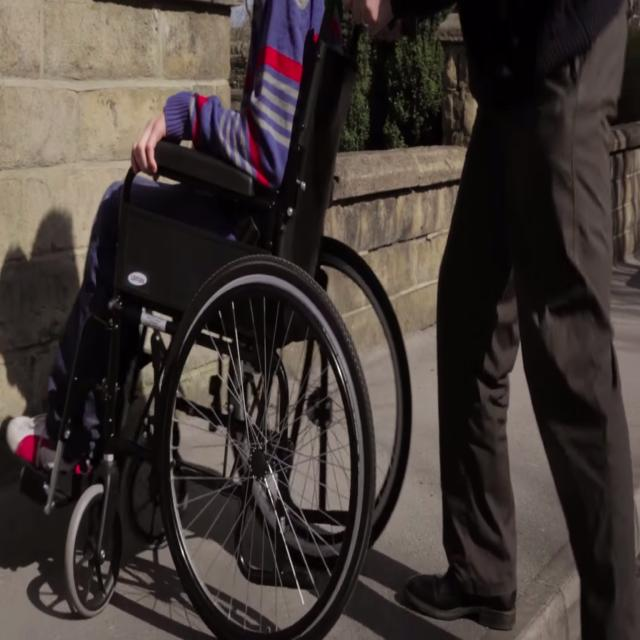wheelchairs: (9, 18, 415, 637)
